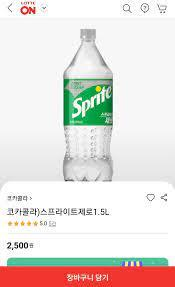sprite_zero: (58, 25, 117, 185)
